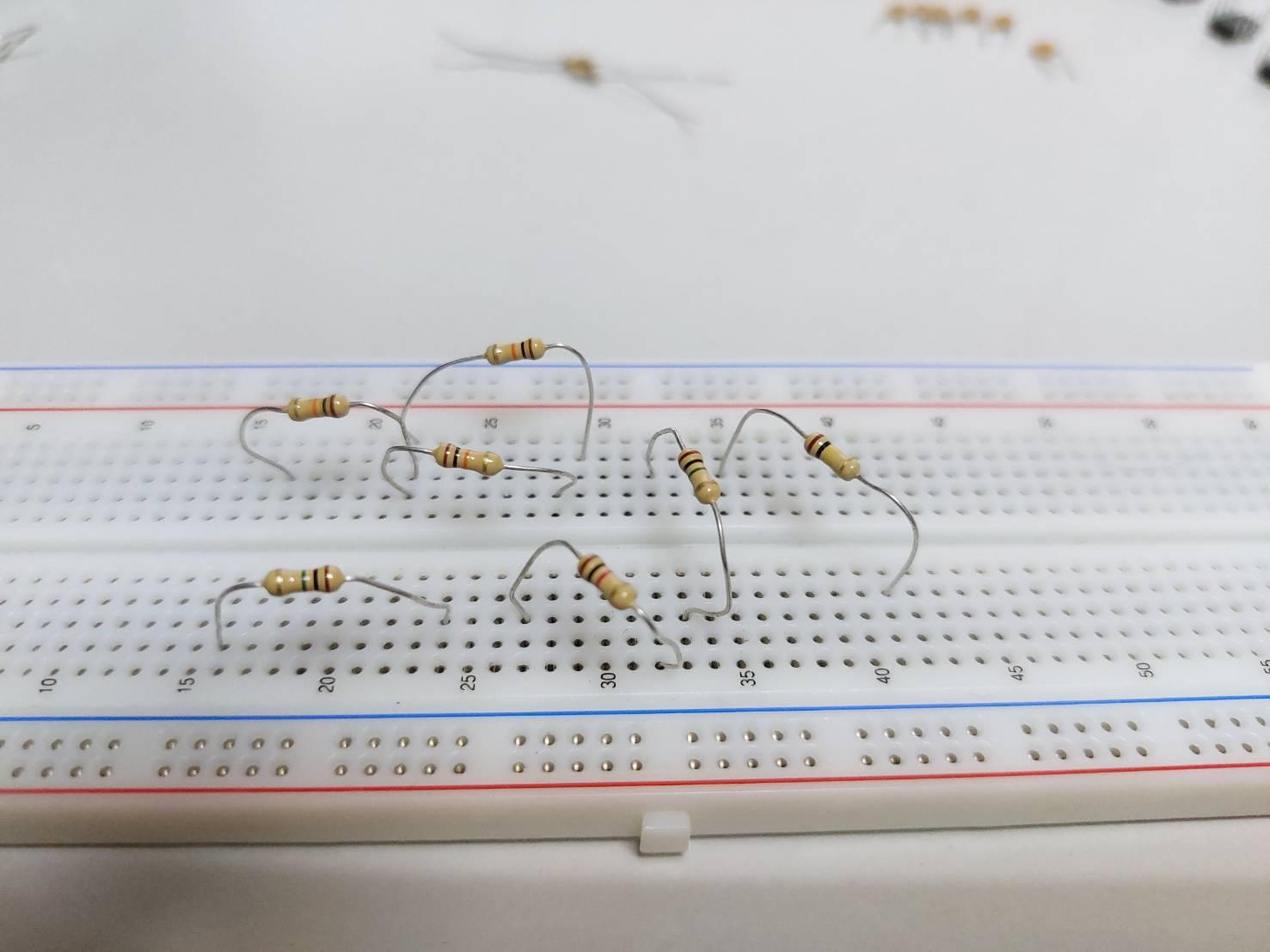resistor: (576, 553, 638, 608), (261, 563, 345, 596), (807, 432, 861, 482), (432, 440, 503, 476), (677, 449, 722, 504), (286, 393, 350, 422), (482, 337, 546, 365)
